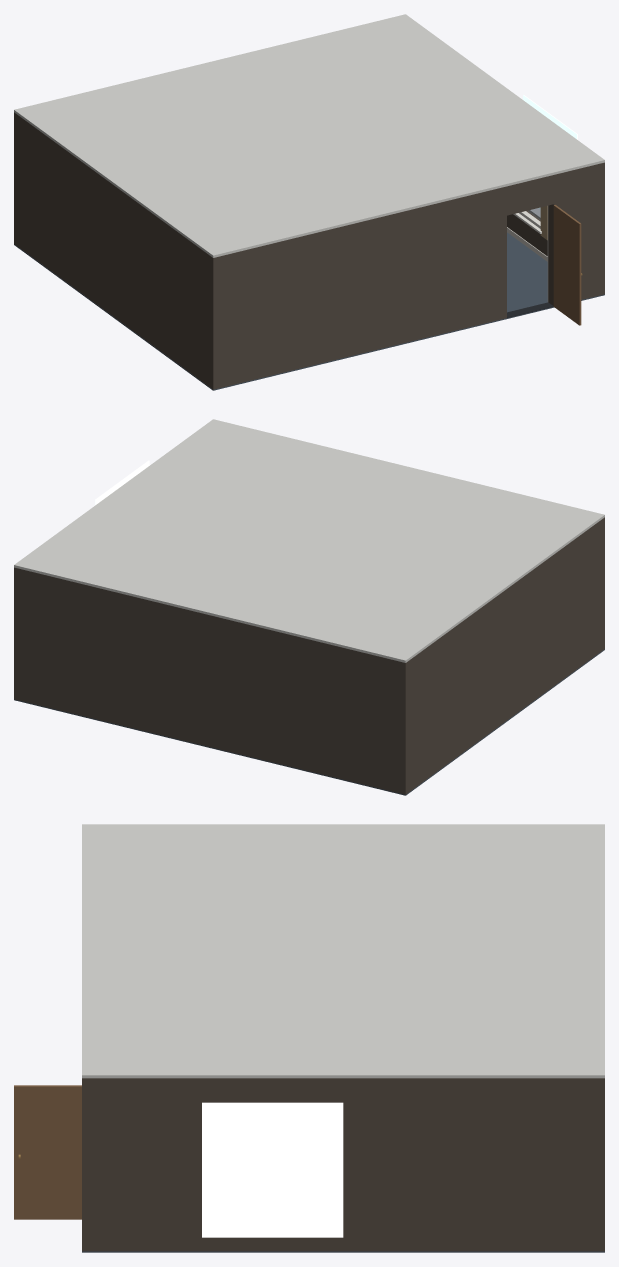
File: hotel_room.glb
3 renders of one model, top to bottom at view 1: azimuth 30°, elevation 25°; view 2: azimuth 150°, elevation 25°; view 3: azimuth 270°, elevation 25°, orthographic. The views are drawn at different scales.
Visible parts, largest first — view 1: hotel_room_room; view 2: hotel_room_room; view 3: hotel_room_room.
Boxes of the visible parts, left/top/right/bottom form: hotel_room_room: left=14, top=14, right=604, bottom=390; hotel_room_room: left=14, top=419, right=604, bottom=795; hotel_room_room: left=14, top=824, right=604, bottom=1252.
Size of the model in its own units: 8.8 by 2.77 by 8.36.
